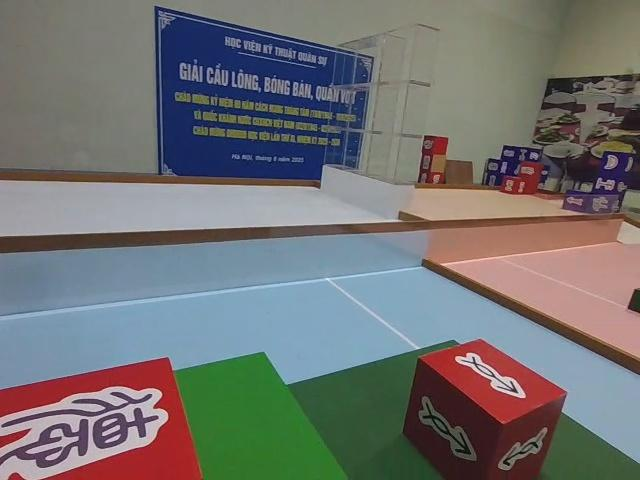R2 Fake: (1, 355, 204, 480)
R2 Real: (404, 337, 567, 480)
